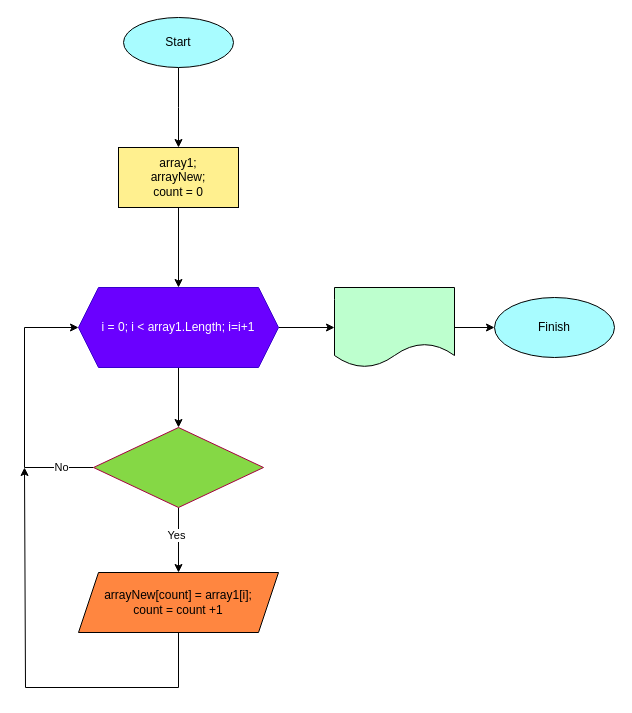
Image size: 632x713. Some labels were removed from this diagram. The centre of each missing label's shape, as x and y in pixels:
array[i].Length <= 3: (x=178, y=467)
Print (arrayNew): (x=394, y=327)
